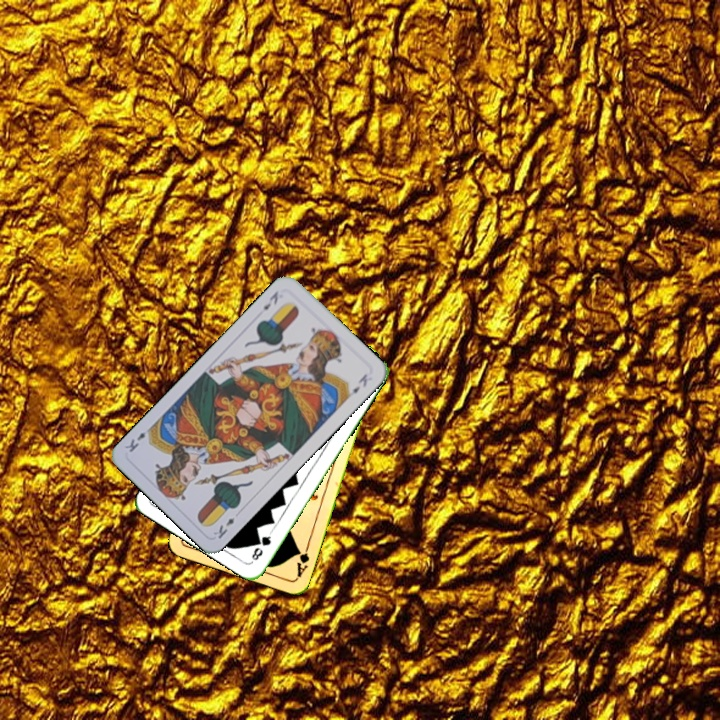EK: (209, 513, 237, 541), (259, 287, 281, 312)
G8: (247, 528, 274, 563)
GA: (292, 540, 312, 580)
